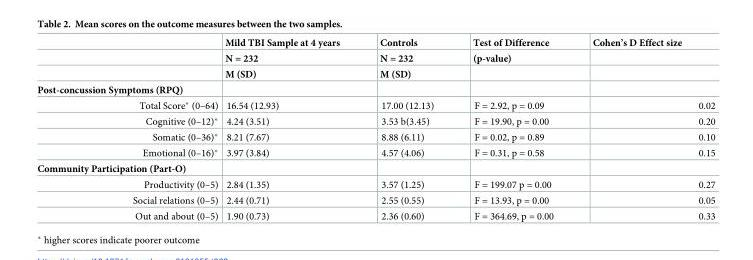table: (36, 37, 714, 221)
table column: (36, 37, 220, 221), (572, 37, 714, 221), (220, 37, 359, 221), (452, 37, 572, 221), (359, 37, 452, 221)
table column header: (36, 37, 714, 81)
table projected row header: (36, 81, 714, 96), (36, 161, 714, 176)
table row: (36, 144, 714, 161), (36, 65, 714, 81), (36, 96, 714, 112), (36, 112, 714, 128), (36, 128, 714, 144), (36, 176, 714, 192), (36, 192, 714, 208), (36, 50, 714, 65), (36, 81, 714, 96), (36, 161, 714, 176), (36, 37, 714, 50), (36, 208, 714, 221)
table spanning cell: (572, 37, 714, 81), (220, 37, 359, 81), (452, 37, 572, 81), (359, 37, 452, 81)
